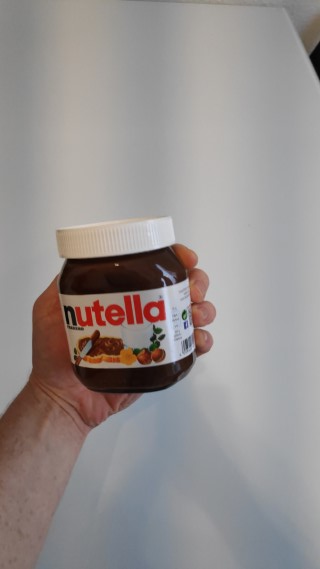nutella: (51, 213, 199, 395)
